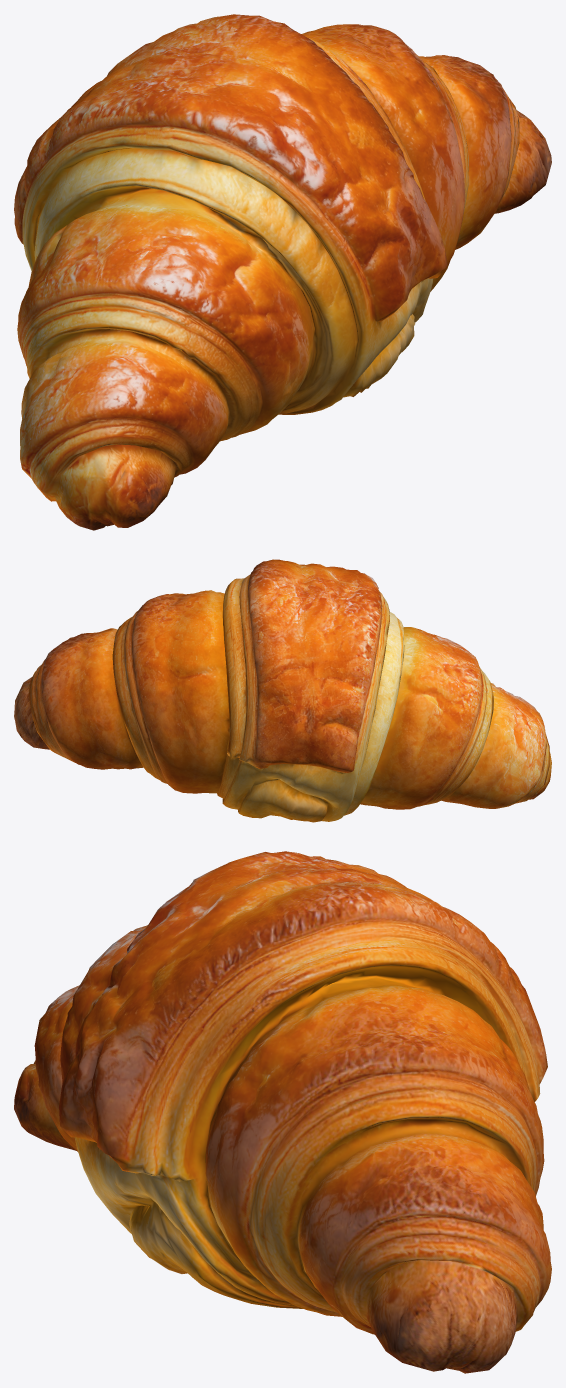
File: croissant.glb
3 views of the same model, one above another, from view 1: azimuth 30°, elevation 25°; view 2: azimuth 150°, elevation 25°; view 3: azimuth 270°, elevation 25° (orthographic). The views are drawn at different scales.
Visible parts, largest first — view 1: tripo_node_37040259-db0f-434c-9c47-131568d46279; view 2: tripo_node_37040259-db0f-434c-9c47-131568d46279; view 3: tripo_node_37040259-db0f-434c-9c47-131568d46279.
Part boxes in pixels (x1,y1,x2,y2): tripo_node_37040259-db0f-434c-9c47-131568d46279: (14, 14, 551, 530); tripo_node_37040259-db0f-434c-9c47-131568d46279: (14, 559, 551, 822); tripo_node_37040259-db0f-434c-9c47-131568d46279: (14, 851, 551, 1373).
Bounding box in the file's own units: 0.9809 × 0.5112 × 0.6221.
Materials: 1 (1 with a texture image).
